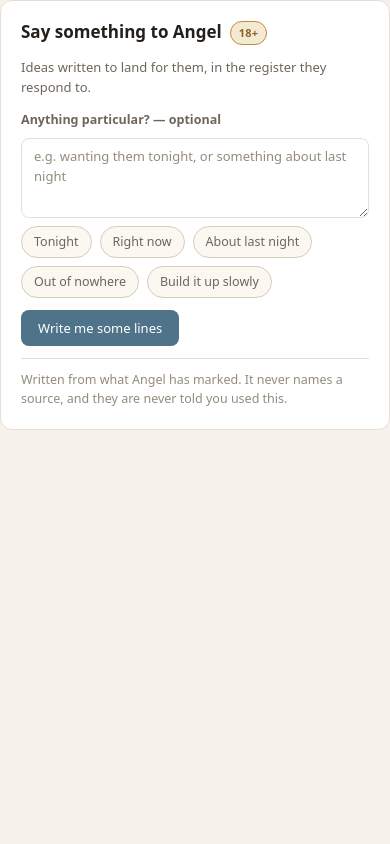
Test: SayLines (75) › writes lines, keeps one, and never names a source
Expected: the heading "Say something to Angel" is shown, [21,21,222,42]
Expected: the text "18+" is shown, [230,21,267,45]
Click the button "Write me some lines": (100, 328) [21,310,179,346]
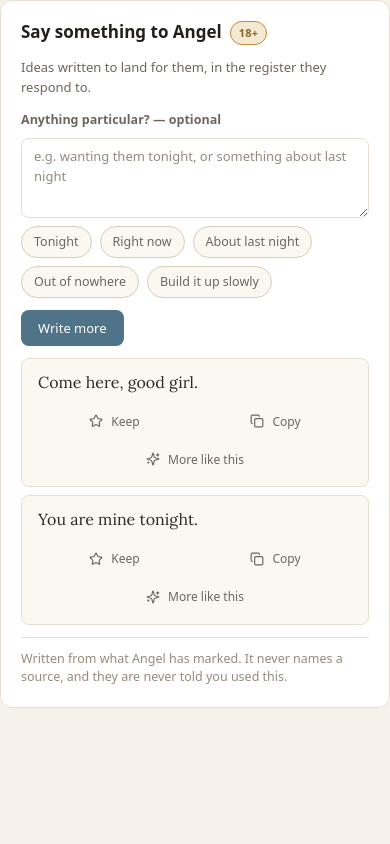
Now the text "Come here, good girl." is shown, box [38,372,198,392]
Now the text "You are mine tonight." is shown, box [38,509,198,529]
Now the button with aria-label "Copy: Come here, good girl." is shown, box [199,406,352,436]
# Star persists through the bridge and comes back as Kept.
Click the button with aria-label "Keep this: Come here, good girl.": (114, 421) [38,406,191,436]
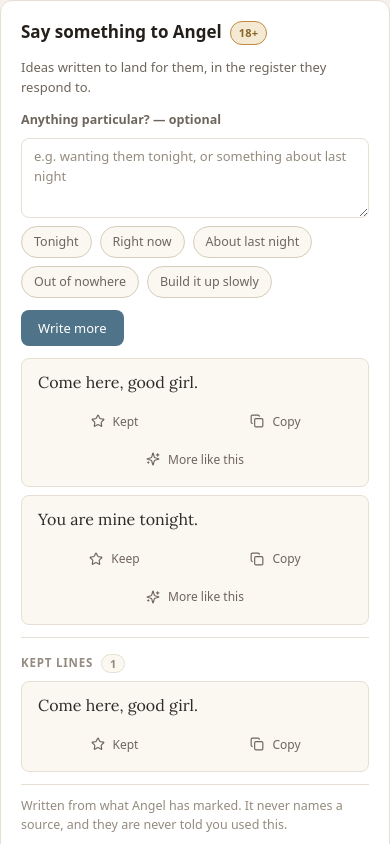
Now the text "Kept lines" is shown, box [21,655,93,670]
